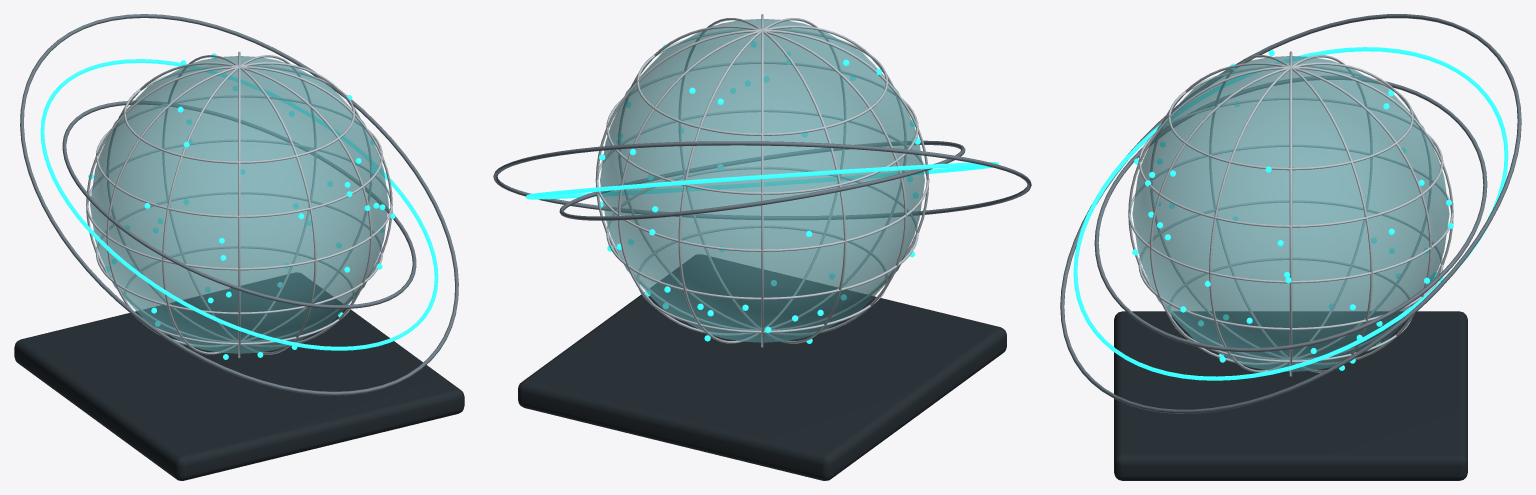
Rendered from covid-research.glb.
3 views of the same model, side by side, from view 1: azimuth 30°, elevation 25°; view 2: azimuth 150°, elevation 25°; view 3: azimuth 270°, elevation 25° (orthographic). The views are drawn at different scales.
Visible parts, largest first — view 1: Research_Glass_Globe, Research plinth, Information layer.002, Information layer.001, Information layer, Longitude.005, Longitude.004, Longitude, Longitude.003, Longitude.001, Latitude.002, Latitude.003 (+4 smaller); view 2: Research_Glass_Globe, Research plinth, Information layer.002, Information layer.001, Information layer, Longitude.001, Longitude, Longitude.002, Longitude.005, Longitude.003, Latitude.002, Latitude.003 (+4 smaller); view 3: Research_Glass_Globe, Research plinth, Information layer.002, Information layer.001, Information layer, Longitude.004, Longitude.003, Longitude.002, Longitude.005, Latitude.002, Longitude.001, Latitude.003 (+4 smaller).
Part boxes in pixels (x1,y1,x2,y2): Research_Glass_Globe: [90, 56, 388, 353]; Research plinth: [14, 272, 464, 480]; Information layer.002: [20, 14, 458, 395]; Information layer.001: [40, 59, 438, 350]; Information layer: [62, 100, 416, 308]; Longitude.005: [86, 66, 392, 342]; Longitude.004: [107, 62, 372, 347]; Longitude: [106, 62, 371, 347]; Longitude.003: [162, 55, 316, 354]; Longitude.001: [162, 55, 316, 354]; Latitude.002: [86, 139, 392, 270]; Latitude.003: [95, 95, 383, 217]; Research_Glass_Globe: [600, 19, 924, 342]; Research plinth: [518, 254, 1006, 480]; Information layer.002: [493, 141, 1031, 219]; Information layer.001: [526, 162, 998, 199]; Information layer: [559, 140, 965, 220]; Longitude.001: [595, 29, 929, 330]; Longitude: [618, 25, 906, 335]; Longitude.002: [618, 25, 906, 335]; Longitude.005: [679, 18, 846, 343]; Longitude.003: [678, 18, 845, 343]; Latitude.002: [595, 110, 929, 251]; Latitude.003: [606, 61, 918, 194]; Research_Glass_Globe: [1132, 56, 1449, 371]; Research plinth: [1114, 311, 1467, 480]; Information layer.002: [1060, 14, 1521, 413]; Information layer.001: [1073, 47, 1508, 380]; Information layer: [1094, 76, 1487, 352]; Longitude.004: [1150, 62, 1431, 364]; Longitude.003: [1128, 66, 1453, 359]; Longitude.002: [1150, 62, 1431, 364]; Longitude.005: [1209, 55, 1372, 372]; Latitude.002: [1128, 145, 1453, 283]; Longitude.001: [1209, 55, 1372, 372]; Latitude.003: [1138, 98, 1443, 227].
Size of the model in its own units: 3.58 by 2.67 by 3.26.
